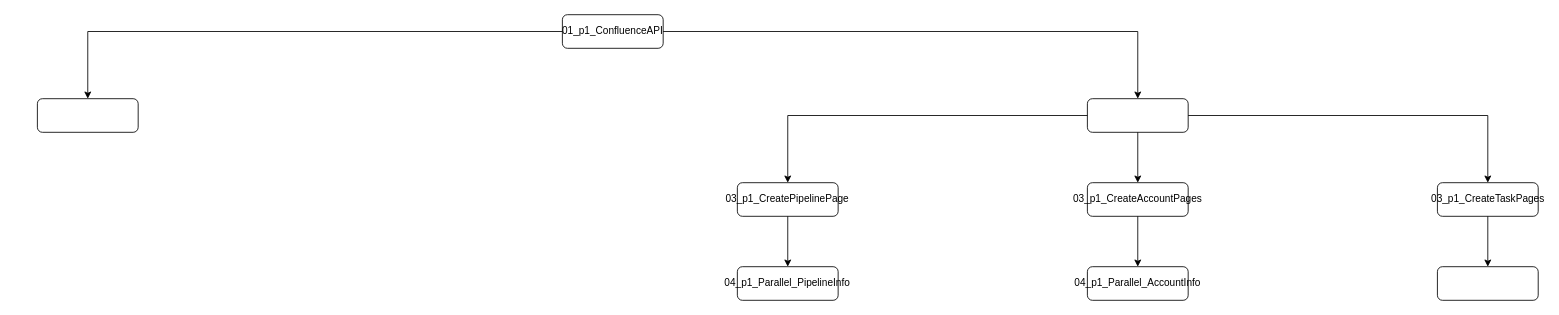
Image size: 1559x315. Some labels were removed from this diagram. The shapes that lost their labels are listed below. From the top down, each one's centre as x and y in pixels, then its label:
At (x=87, y=115): "02_p1_CreateProjectFolderPage".
At (x=1137, y=115): "02_p1_CreateTaskPageAccountPage".
At (x=1487, y=283): "04_p1_Parallel_TaskInfo".
